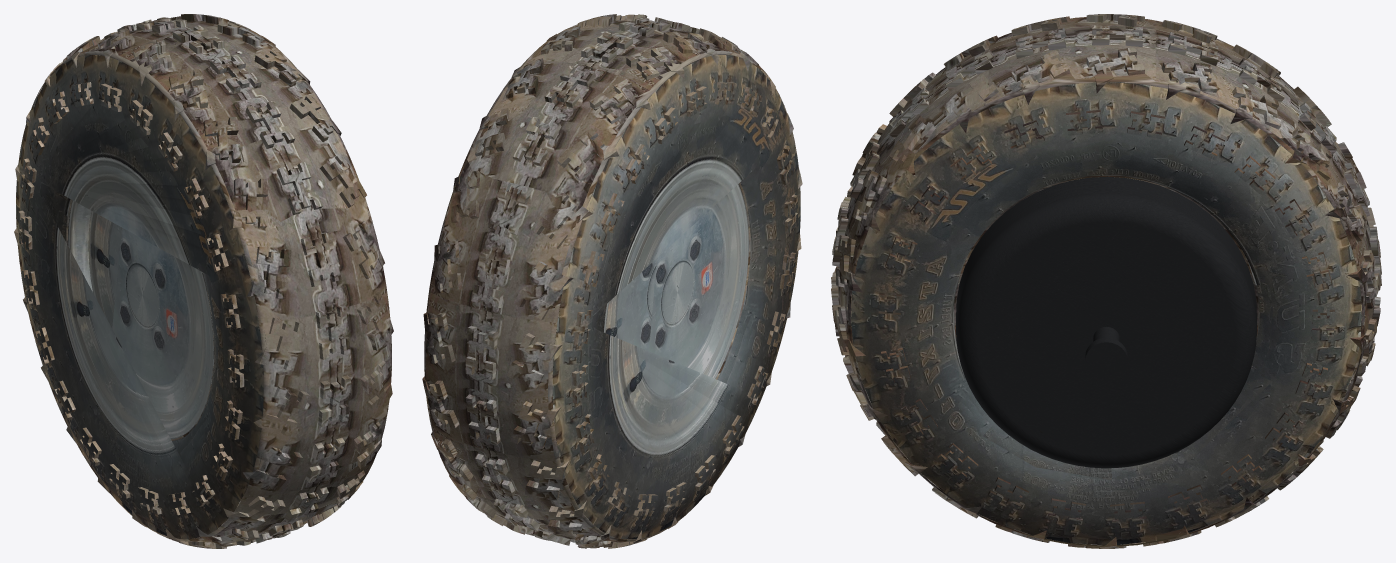
File: rueda_delante_dcha.fbx
3 renders of one model, left to right at view 1: azimuth 30°, elevation 25°; view 2: azimuth 150°, elevation 25°; view 3: azimuth 270°, elevation 25°, orthographic. The views are drawn at different scales.
Parts seen in each view (by area): view 1: Neumático-1, Rueda - Llanta-2; view 2: Neumático-1, Rueda - Llanta-2; view 3: Neumático-1, motor-rueda-delante-der-3.
Part boxes in pixels (left/top/right/bottom): Neumático-1: left=14, top=14, right=393, bottom=548; Rueda - Llanta-2: left=67, top=200, right=213, bottom=439; Neumático-1: left=422, top=14, right=802, bottom=548; Rueda - Llanta-2: left=603, top=184, right=748, bottom=378; Neumático-1: left=831, top=14, right=1381, bottom=548; motor-rueda-delante-der-3: left=956, top=176, right=1256, bottom=468.
Size of the model in its own units: 26.07 by 51.15 by 51.21.
